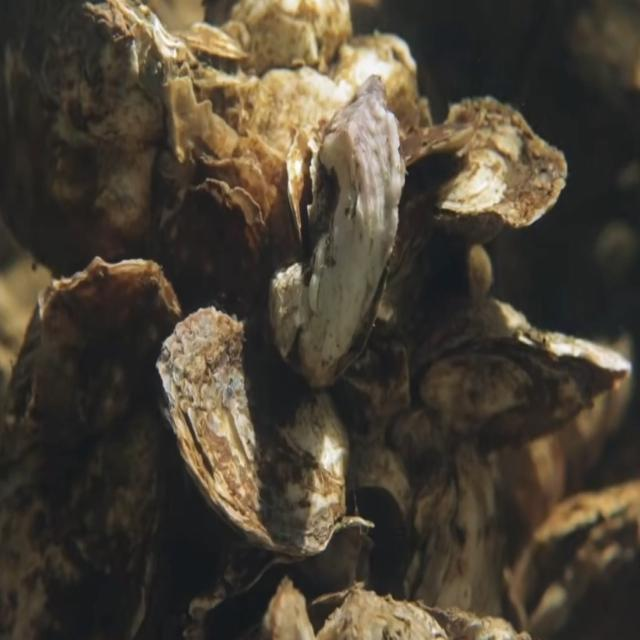Oyster-Closed: (0, 256, 183, 640), (154, 305, 352, 558), (269, 74, 406, 390), (410, 296, 640, 454), (386, 95, 568, 288), (398, 439, 507, 640)
Oyster-Indeterminate: (0, 0, 221, 269), (156, 178, 271, 330)
Oyster-Open: (191, 515, 375, 640), (510, 480, 640, 640)
